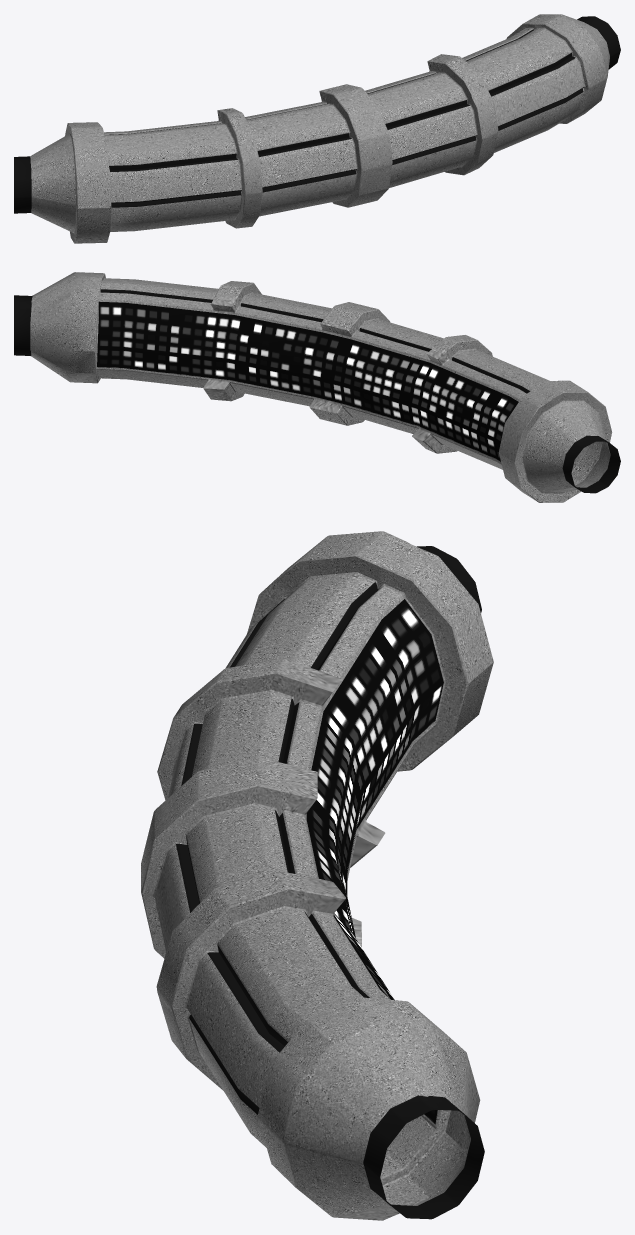
File: FBX_ModuleHabitat.fbx
3 renders of one model, top to bottom at view 1: azimuth 30°, elevation 25°; view 2: azimuth 150°, elevation 25°; view 3: azimuth 270°, elevation 25°, orthographic. The views are drawn at different scales.
Parts seen in each view (by area): view 1: Module Habitat CleanUV Export; view 2: Module Habitat CleanUV Export; view 3: Module Habitat CleanUV Export.
Boxes of the visible parts, x1=… form: Module Habitat CleanUV Export: x1=14, y1=14, x2=620, y2=243; Module Habitat CleanUV Export: x1=14, y1=272, x2=620, y2=502; Module Habitat CleanUV Export: x1=141, y1=531, x2=493, y2=1220.
Size of the model in its own units: 834 by 145 by 210.
